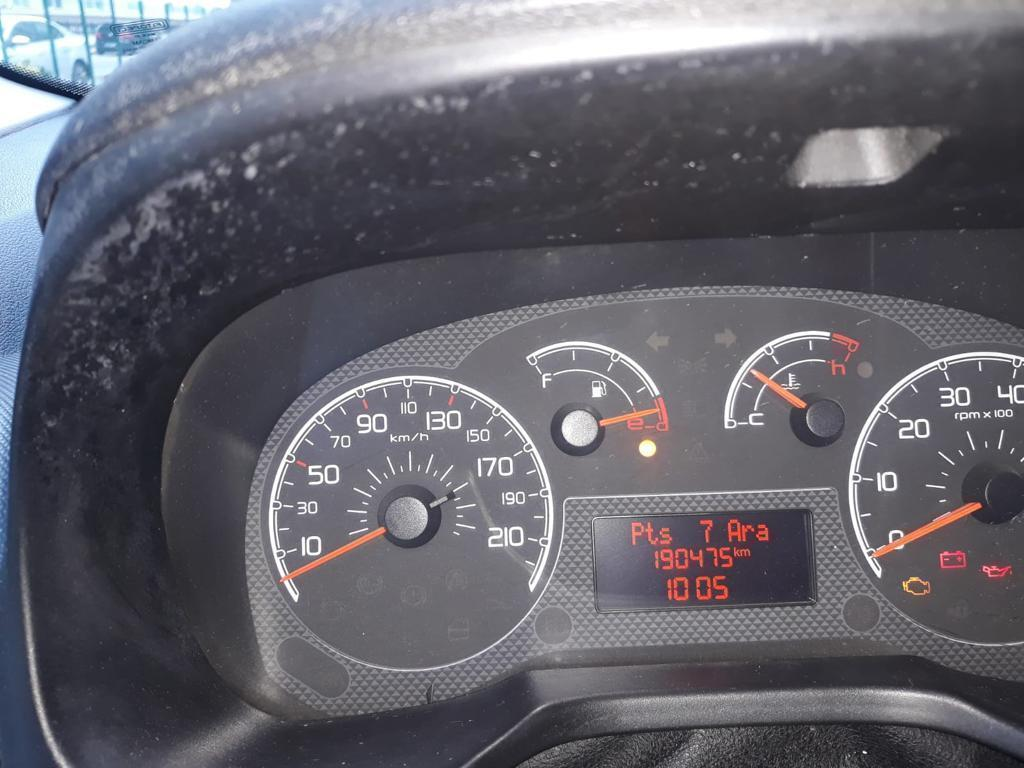0: (694, 574, 712, 601), (672, 575, 689, 602), (673, 547, 689, 569)
1: (664, 577, 672, 601), (652, 548, 659, 570)
4: (689, 548, 704, 568)
5: (712, 574, 729, 600), (718, 546, 733, 568)
7: (698, 518, 714, 544), (704, 545, 718, 568)
9: (659, 547, 673, 570)
X: (644, 520, 659, 545), (629, 521, 644, 546), (726, 518, 741, 542), (755, 522, 769, 542), (741, 523, 755, 542), (659, 526, 672, 545), (740, 548, 751, 557), (733, 545, 740, 557)
odometer: (588, 507, 819, 616)
